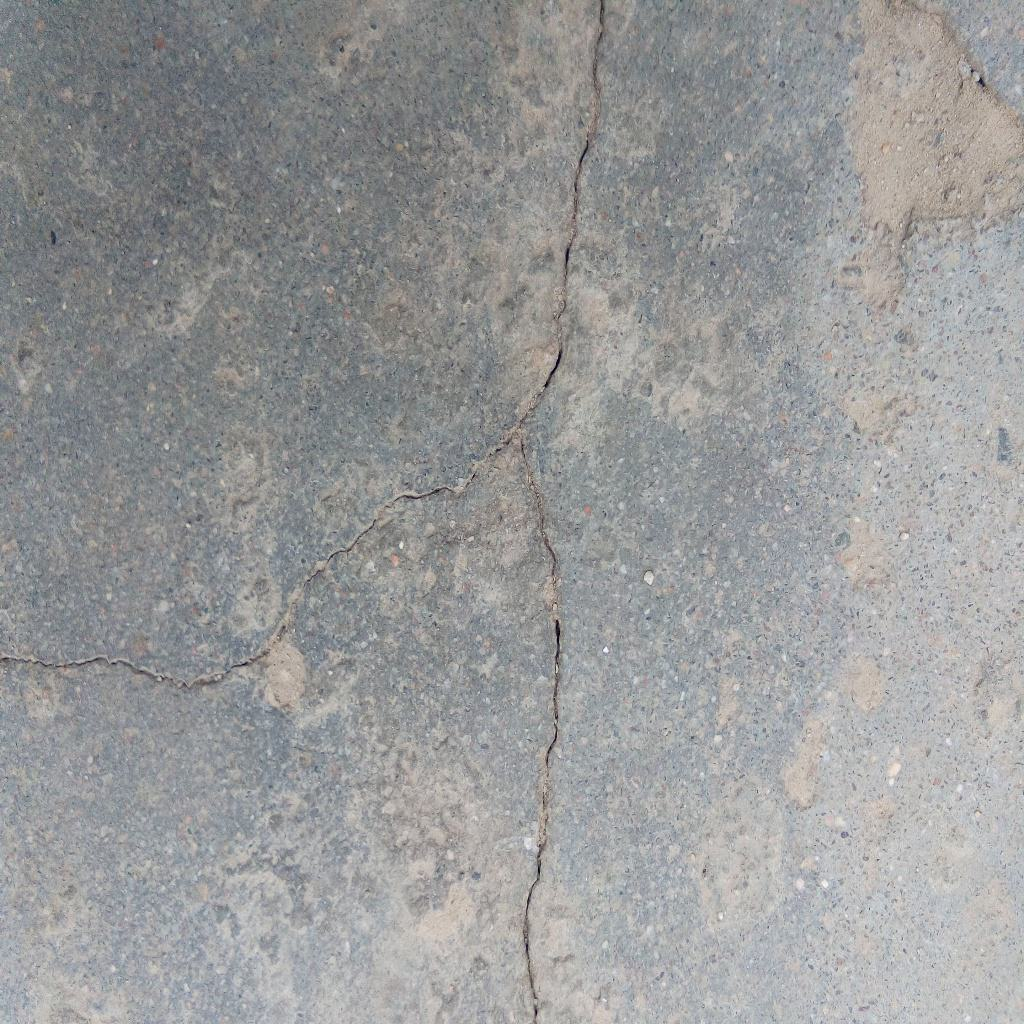Crack: (1, 432, 516, 692), (517, 1, 607, 433), (516, 432, 561, 1024)
